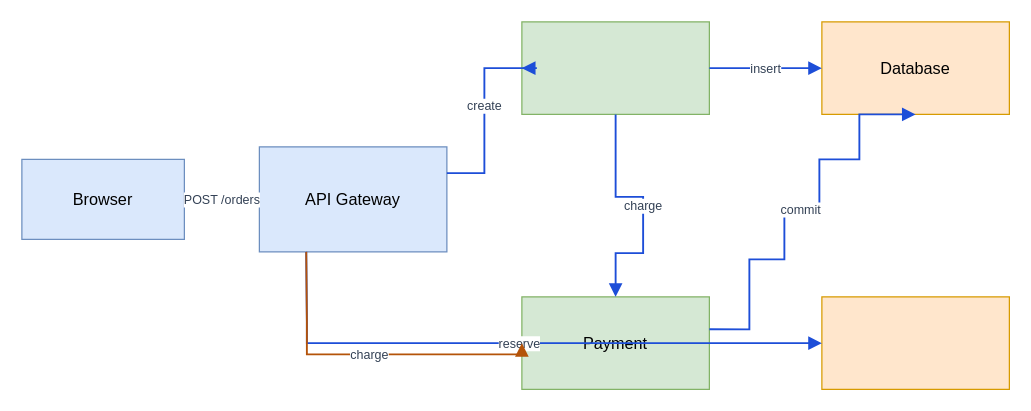
The diagram is 1031 pixels wide and 411 high, and some of its shapes have lost their labels. Here are the shapes that lost their labels. From the top down, the centre of each, then its label:
At point 615,67: "Order Service".
At point 915,342: "Redis".
